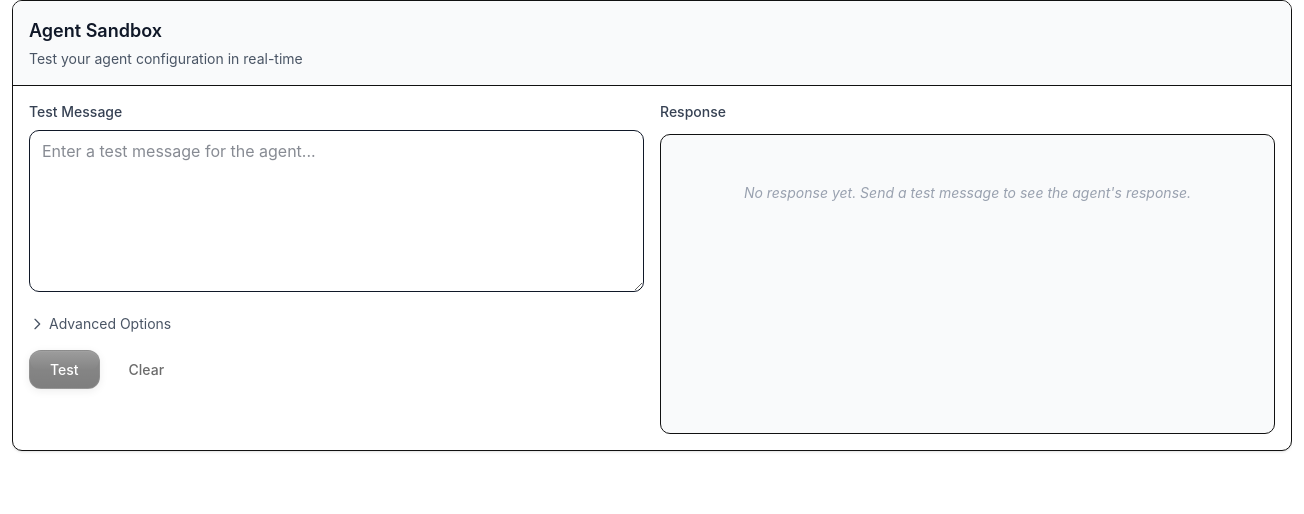
Test case: AgentSandbox Component › Error Handling › should display error message on API failure
Type "Test" into the text box labelled "Test Message".
click(336, 211); type("Test")  # box [29,130,644,292]
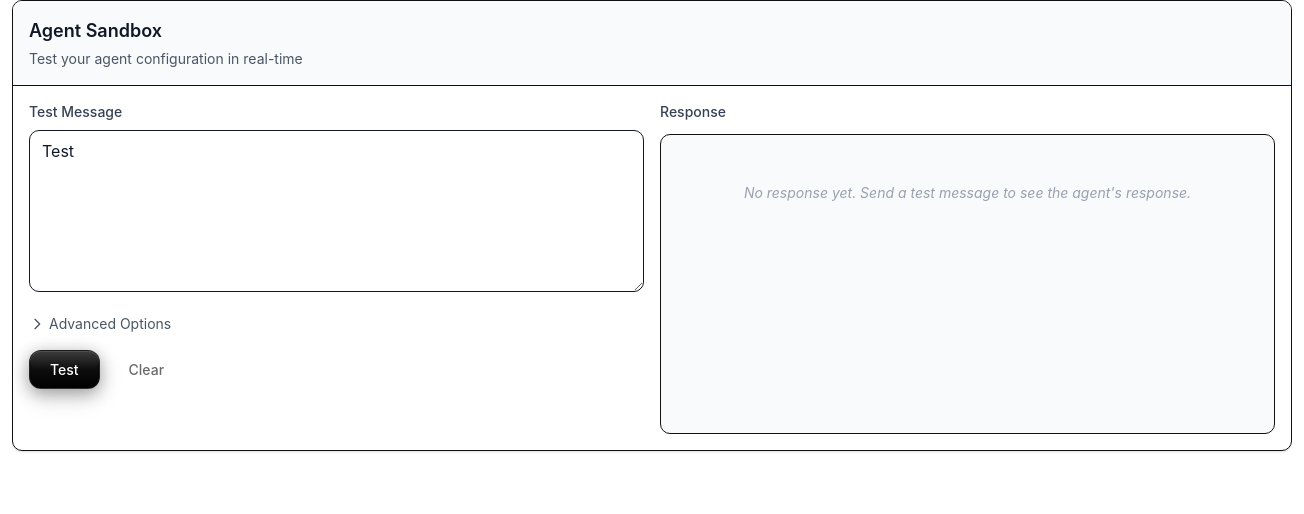
Click the button "Test".
click(64, 370)  # box [29,350,100,389]
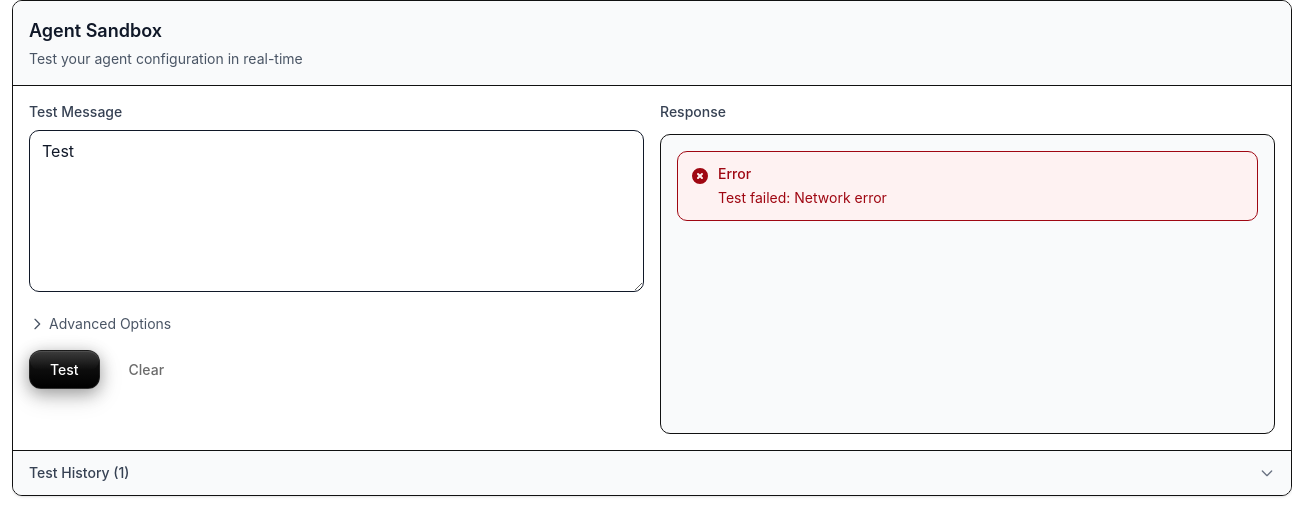
Now the text "Error" is shown, box [718,165,751,182]
Now the text "Test failed: Network error" is shown, box [718,188,887,208]
